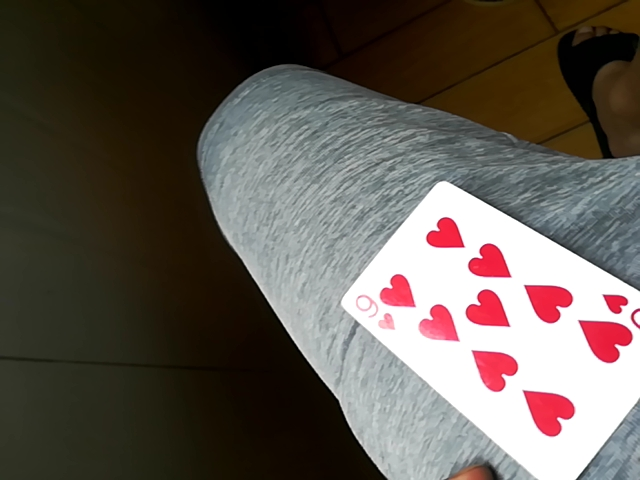hx 9: (338, 176, 639, 479)
